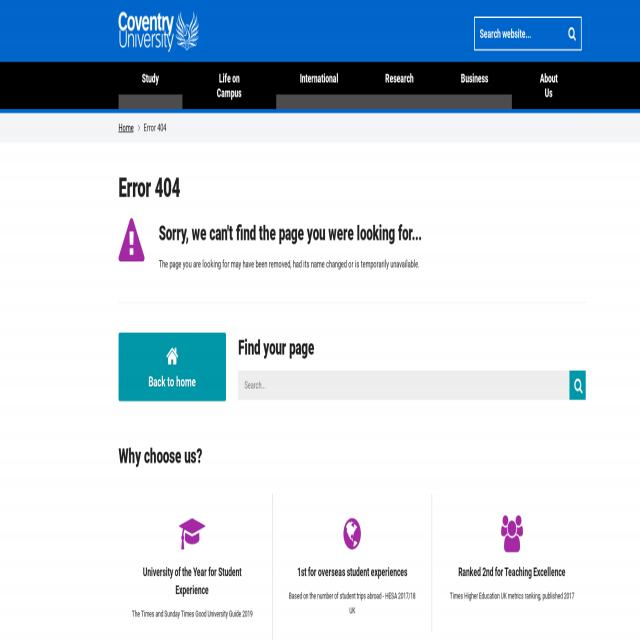button: (118, 333, 226, 401), (113, 6, 204, 56), (182, 62, 276, 109), (512, 62, 586, 109), (276, 62, 362, 95), (362, 62, 437, 95), (438, 62, 512, 95), (119, 62, 182, 95), (564, 19, 580, 49), (570, 370, 586, 400)
field: (238, 371, 569, 400), (475, 19, 581, 49)
